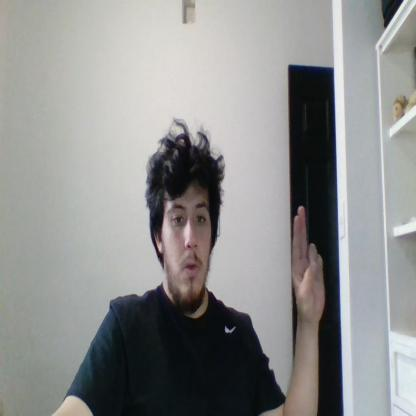U: (292, 205, 324, 323)
